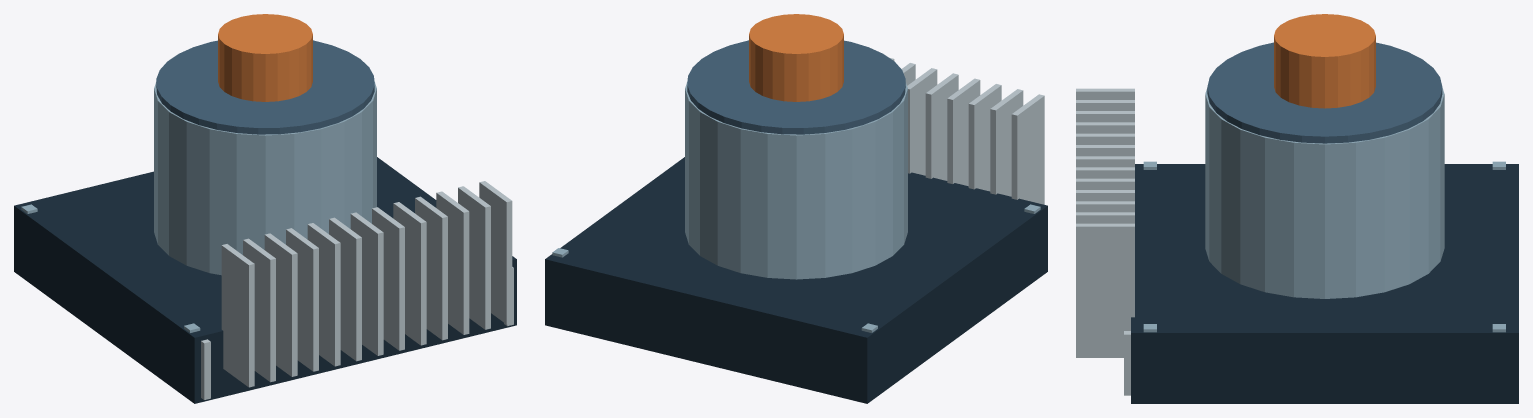
File: 04_L74_PrecisionSpinChuckDrive.fbx
3 views of the same model, side by side, from view 1: azimuth 30°, elevation 25°; view 2: azimuth 150°, elevation 25°; view 3: azimuth 270°, elevation 25° (orthographic). The views are drawn at different scales.
Visible parts, largest first — view 1: PrecisionSpinChuckDrive, PrecisionSpinChuckDrive_Part_0007, PrecisionSpinChuckDrive_Part_0022, PrecisionSpinChuckDrive_Part_0021, PrecisionSpinChuckDrive_Part_0015, PrecisionSpinChuckDrive_Part_0019, PrecisionSpinChuckDrive_Part_0017, PrecisionSpinChuckDrive_Part_0016, PrecisionSpinChuckDrive_Part_0020, PrecisionSpinChuckDrive_Part_0018, PrecisionSpinChuckDrive_Part_0014, PrecisionSpinChuckDrive_Part_0013 (+3 smaller); view 2: PrecisionSpinChuckDrive, PrecisionSpinChuckDrive_Part_0007, PrecisionSpinChuckDrive_Part_0022, PrecisionSpinChuckDrive_Part_0021, PrecisionSpinChuckDrive_Part_0017, PrecisionSpinChuckDrive_Part_0012, PrecisionSpinChuckDrive_Part_0013, PrecisionSpinChuckDrive_Part_0016, PrecisionSpinChuckDrive_Part_0015, PrecisionSpinChuckDrive_Part_0019, PrecisionSpinChuckDrive_Part_0014, PrecisionSpinChuckDrive_Part_0020 (+3 smaller); view 3: PrecisionSpinChuckDrive, PrecisionSpinChuckDrive_Part_0007, PrecisionSpinChuckDrive_Part_0022, PrecisionSpinChuckDrive_Part_0021, PrecisionSpinChuckDrive_Part_0019, PrecisionSpinChuckDrive_Part_0015, PrecisionSpinChuckDrive_Part_0013, PrecisionSpinChuckDrive_Part_0014, PrecisionSpinChuckDrive_Part_0012, PrecisionSpinChuckDrive_Part_0018, PrecisionSpinChuckDrive_Part_0020, PrecisionSpinChuckDrive_Part_0016 (+3 smaller).
Boxes of the visible parts, x1=… form: PrecisionSpinChuckDrive: x1=14, y1=157, x2=516, y2=403; PrecisionSpinChuckDrive_Part_0007: x1=156, y1=40, x2=374, y2=134; PrecisionSpinChuckDrive_Part_0022: x1=218, y1=14, x2=312, y2=101; PrecisionSpinChuckDrive_Part_0021: x1=154, y1=81, x2=376, y2=147; PrecisionSpinChuckDrive_Part_0015: x1=154, y1=161, x2=376, y2=219; PrecisionSpinChuckDrive_Part_0019: x1=154, y1=113, x2=376, y2=171; PrecisionSpinChuckDrive_Part_0017: x1=154, y1=137, x2=376, y2=196; PrecisionSpinChuckDrive_Part_0016: x1=154, y1=149, x2=376, y2=207; PrecisionSpinChuckDrive_Part_0020: x1=154, y1=101, x2=376, y2=159; PrecisionSpinChuckDrive_Part_0018: x1=154, y1=125, x2=376, y2=183; PrecisionSpinChuckDrive_Part_0014: x1=154, y1=173, x2=376, y2=231; PrecisionSpinChuckDrive_Part_0013: x1=154, y1=185, x2=376, y2=243; PrecisionSpinChuckDrive: x1=545, y1=58, x2=1047, y2=403; PrecisionSpinChuckDrive_Part_0007: x1=687, y1=40, x2=905, y2=134; PrecisionSpinChuckDrive_Part_0022: x1=749, y1=14, x2=843, y2=101; PrecisionSpinChuckDrive_Part_0021: x1=685, y1=81, x2=907, y2=147; PrecisionSpinChuckDrive_Part_0017: x1=685, y1=137, x2=907, y2=195; PrecisionSpinChuckDrive_Part_0012: x1=685, y1=198, x2=907, y2=255; PrecisionSpinChuckDrive_Part_0013: x1=685, y1=185, x2=907, y2=243; PrecisionSpinChuckDrive_Part_0016: x1=685, y1=149, x2=907, y2=208; PrecisionSpinChuckDrive_Part_0015: x1=685, y1=161, x2=907, y2=219; PrecisionSpinChuckDrive_Part_0019: x1=685, y1=113, x2=907, y2=171; PrecisionSpinChuckDrive_Part_0014: x1=685, y1=173, x2=907, y2=232; PrecisionSpinChuckDrive_Part_0020: x1=685, y1=101, x2=907, y2=159; PrecisionSpinChuckDrive: x1=1076, y1=88, x2=1518, y2=403; PrecisionSpinChuckDrive_Part_0007: x1=1207, y1=42, x2=1442, y2=143; PrecisionSpinChuckDrive_Part_0022: x1=1274, y1=14, x2=1375, y2=108; PrecisionSpinChuckDrive_Part_0021: x1=1205, y1=87, x2=1444, y2=157; PrecisionSpinChuckDrive_Part_0019: x1=1205, y1=120, x2=1444, y2=183; PrecisionSpinChuckDrive_Part_0015: x1=1205, y1=172, x2=1444, y2=235; PrecisionSpinChuckDrive_Part_0013: x1=1205, y1=198, x2=1444, y2=261; PrecisionSpinChuckDrive_Part_0014: x1=1205, y1=185, x2=1444, y2=248; PrecisionSpinChuckDrive_Part_0012: x1=1205, y1=211, x2=1444, y2=273; PrecisionSpinChuckDrive_Part_0018: x1=1205, y1=133, x2=1444, y2=196; PrecisionSpinChuckDrive_Part_0020: x1=1205, y1=107, x2=1444, y2=170; PrecisionSpinChuckDrive_Part_0016: x1=1205, y1=159, x2=1444, y2=222.
Size of the model in its own units: 102 by 80 by 113.
